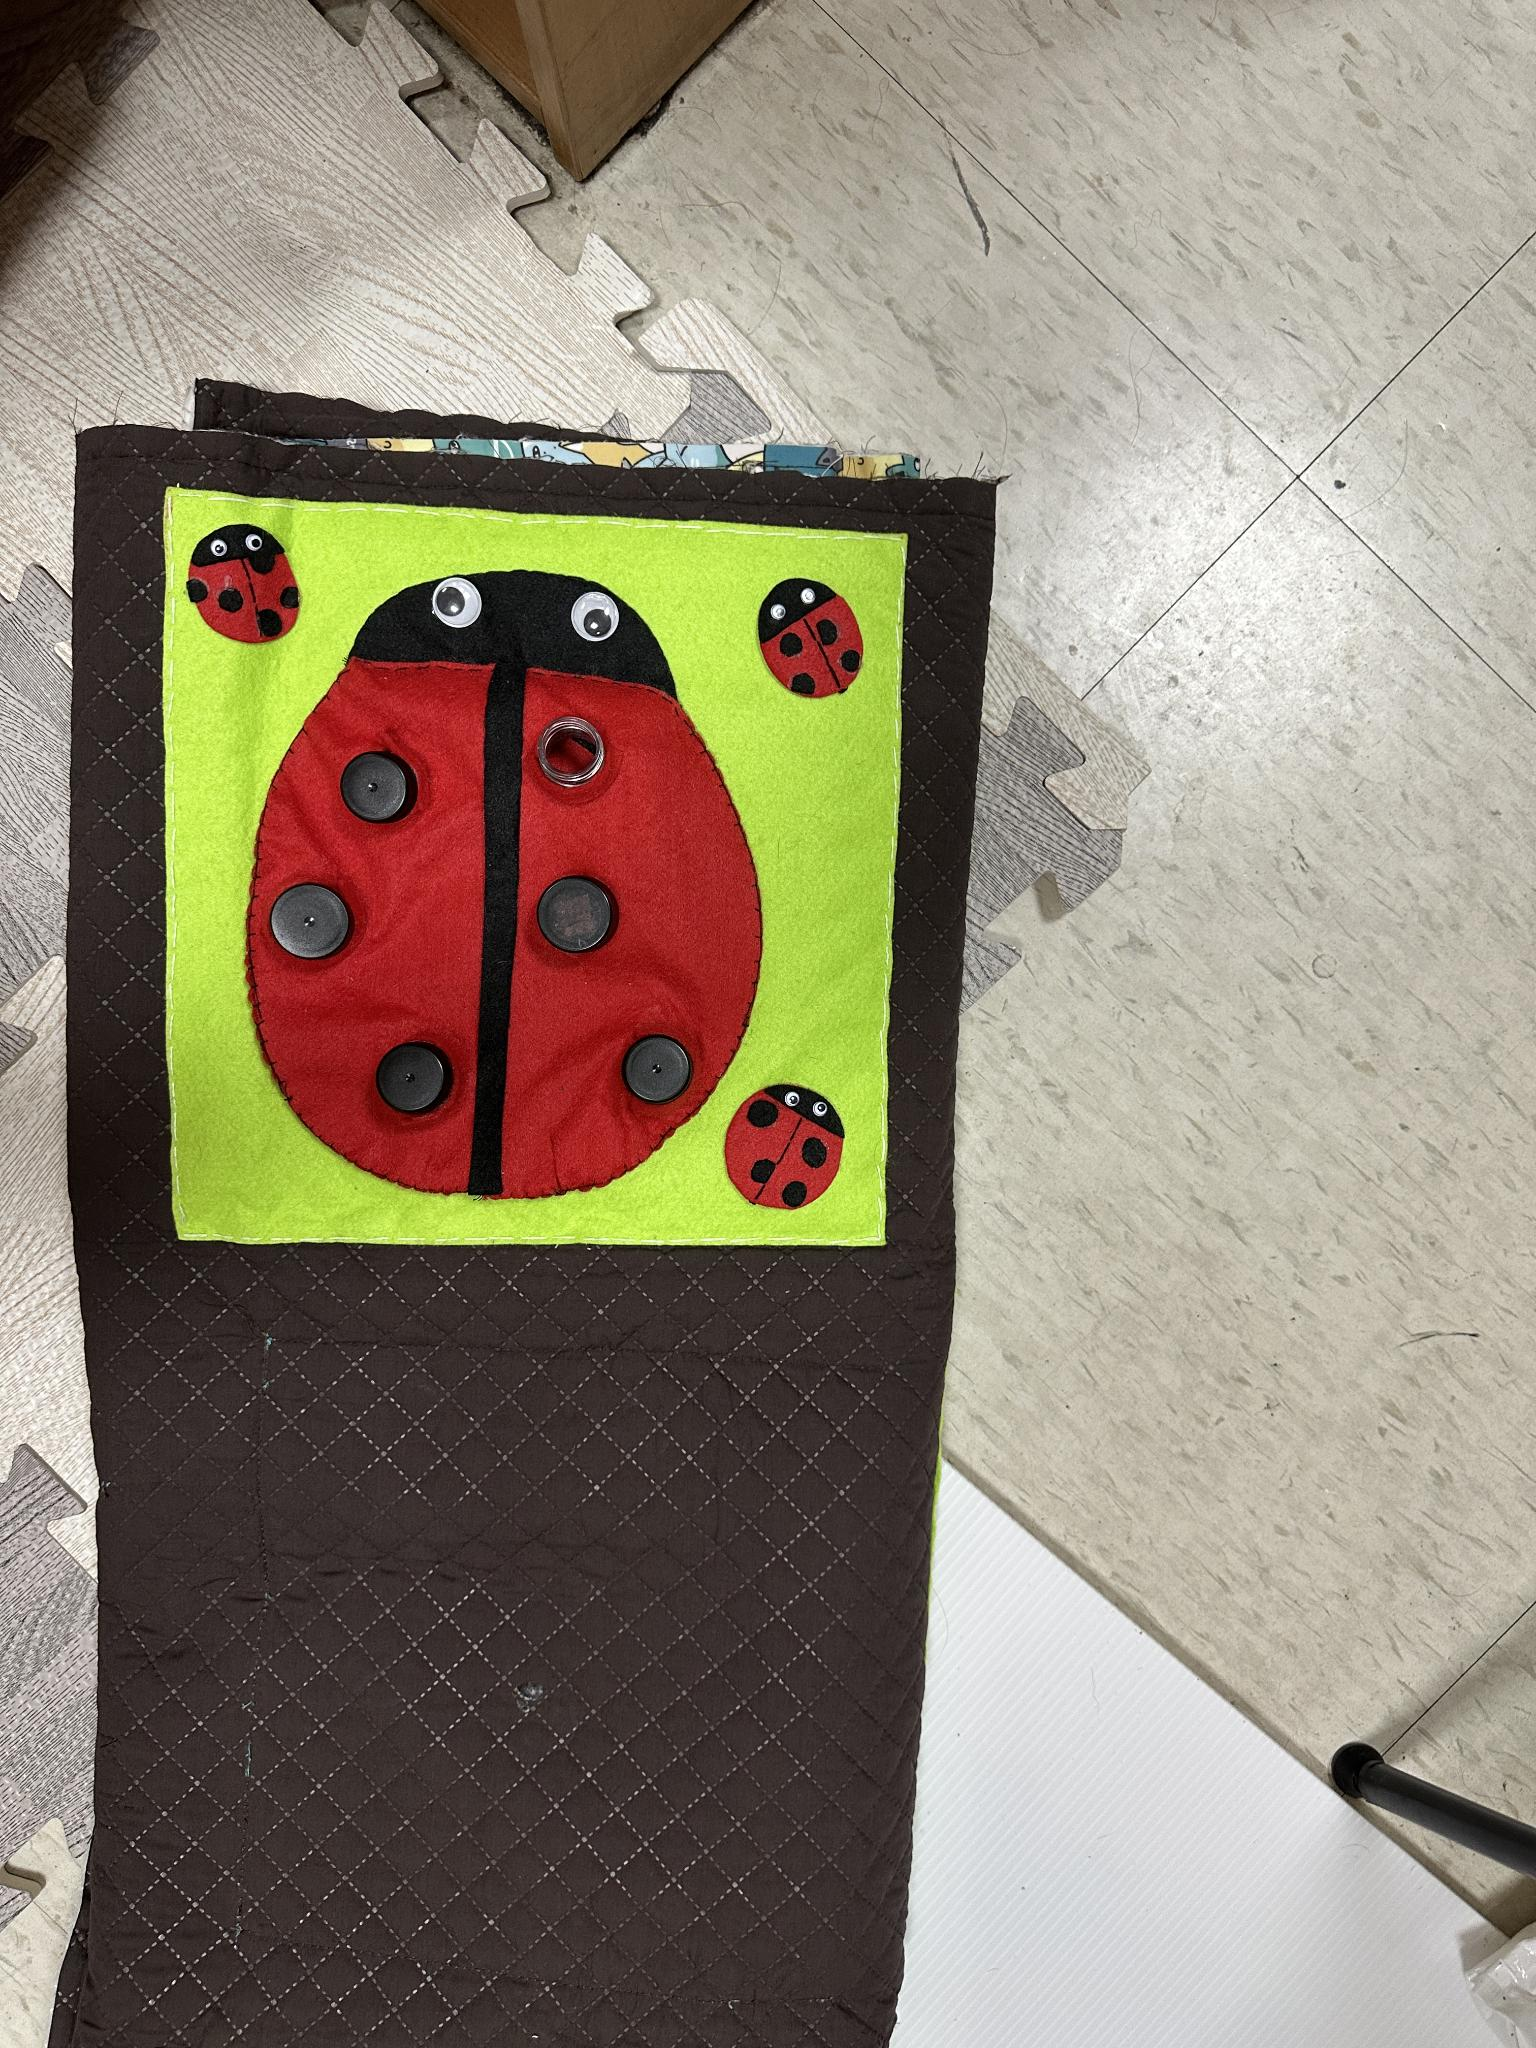cap_ok: (250, 869, 373, 976), (529, 863, 636, 968), (331, 729, 428, 839), (360, 1027, 465, 1122), (611, 1016, 707, 1109)
